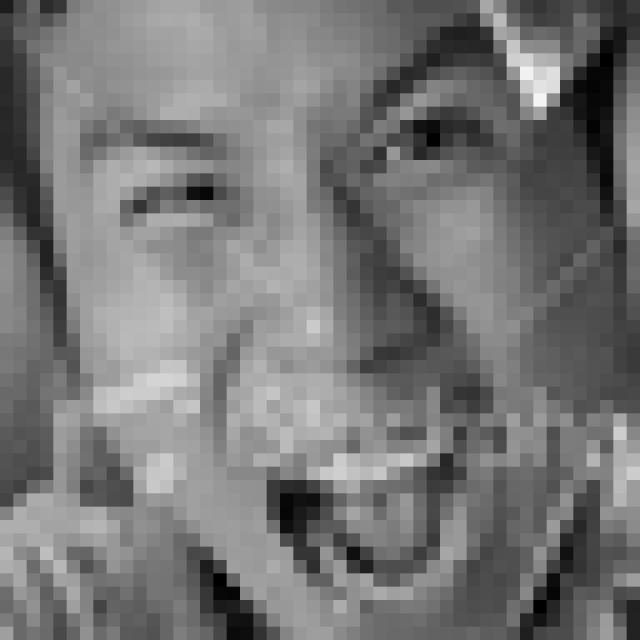angry: (77, 16, 500, 620)
